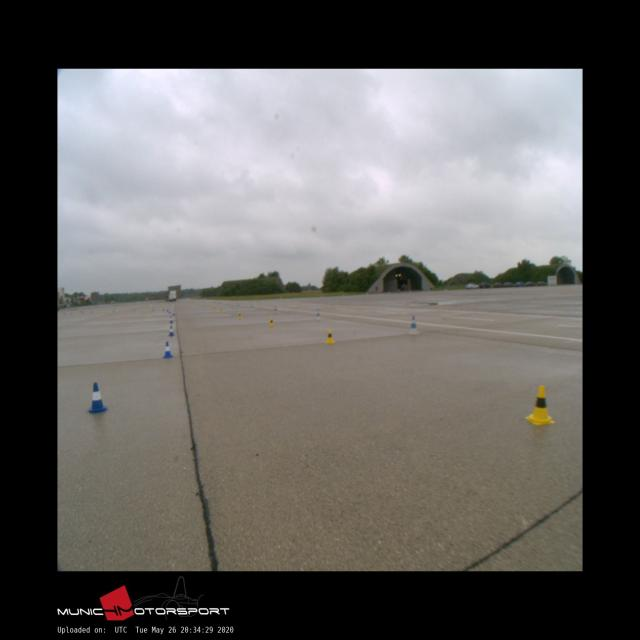blue_cone: (87, 382, 107, 413), (162, 342, 172, 357), (168, 325, 174, 336)
yellow_cone: (525, 385, 555, 424), (326, 329, 334, 343), (269, 318, 274, 327)
